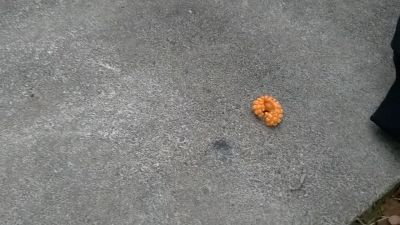eggs: (251, 93, 284, 129)
